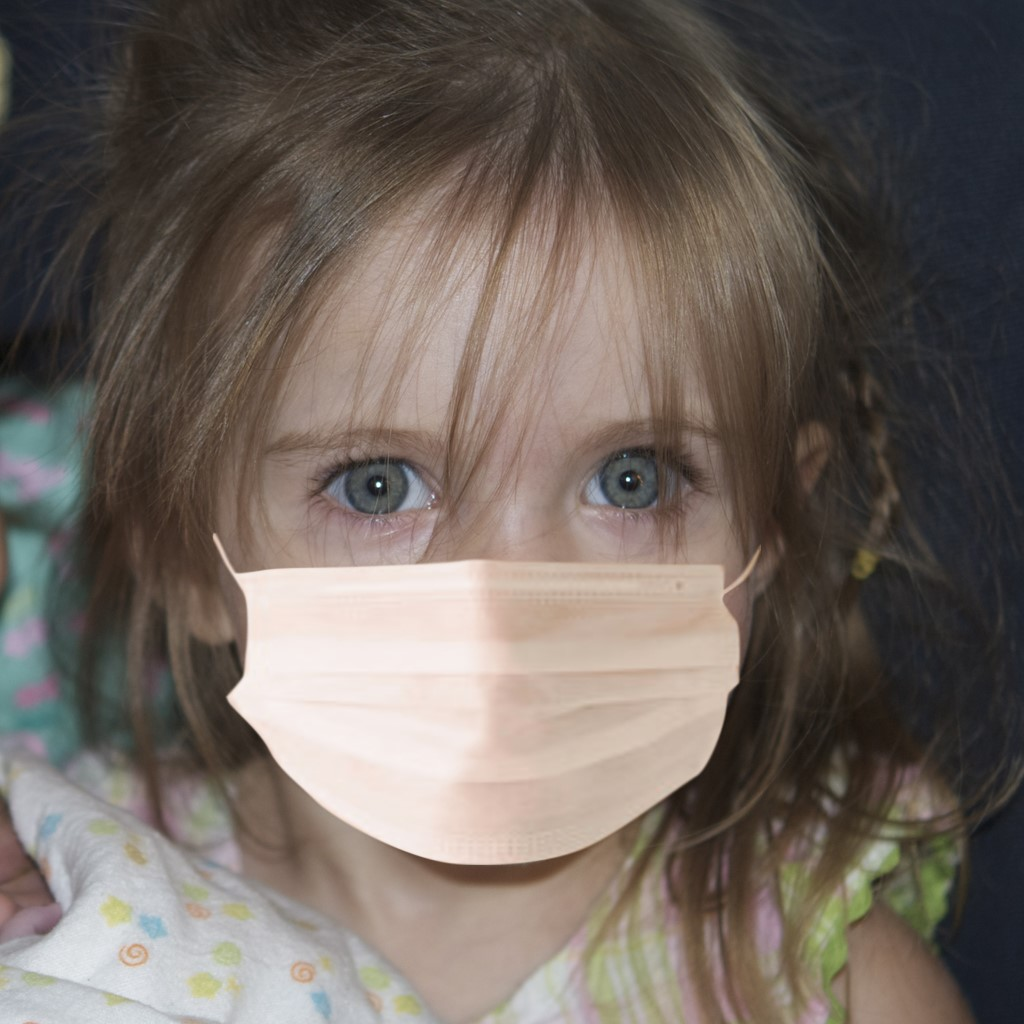con_mascara: (219, 172, 774, 867)
